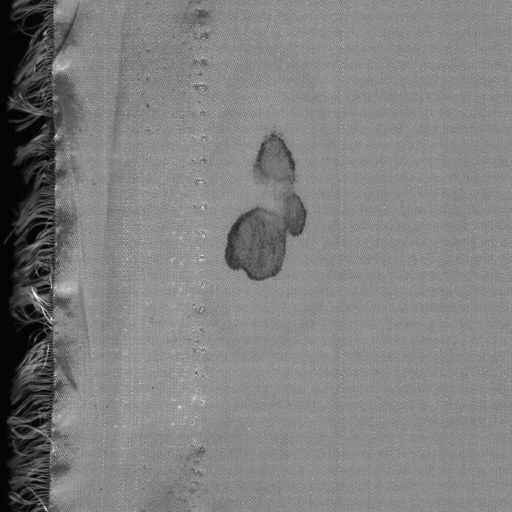defect: (230, 119, 310, 295), (335, 1, 348, 512)
